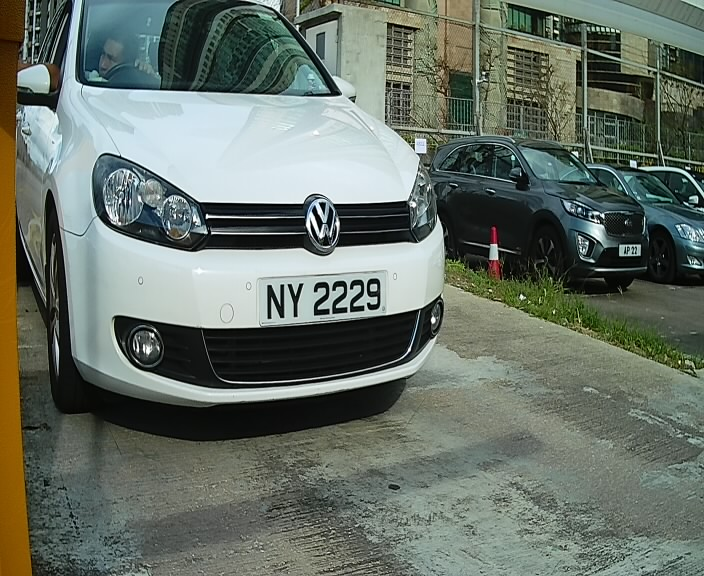Car: (32, 0, 458, 441)
License Plate: (248, 269, 397, 334)
